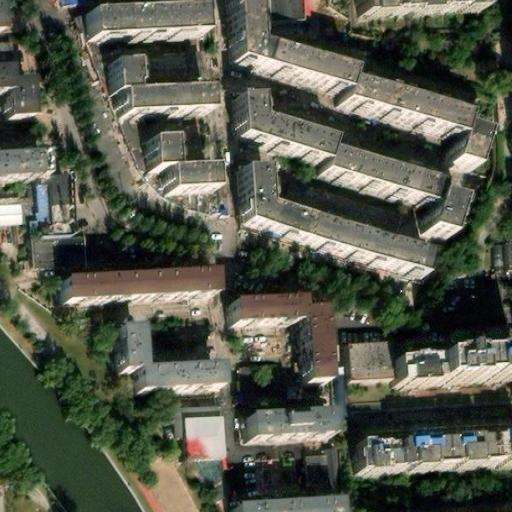building: (231, 0, 351, 89), (340, 76, 464, 134), (322, 140, 442, 199), (308, 211, 431, 268), (353, 430, 512, 472), (239, 93, 333, 157), (242, 161, 315, 236), (96, 48, 195, 103), (395, 356, 512, 398), (365, 0, 494, 37), (60, 272, 206, 304), (133, 127, 204, 184), (72, 0, 193, 26), (235, 411, 324, 444), (226, 487, 334, 512), (126, 367, 216, 395), (226, 298, 301, 325), (173, 402, 214, 449), (427, 181, 464, 232), (300, 305, 323, 382), (450, 121, 485, 166), (112, 325, 141, 376), (347, 346, 388, 380), (22, 224, 50, 269), (0, 143, 37, 171), (31, 180, 51, 224), (0, 63, 22, 101), (497, 240, 511, 272)
